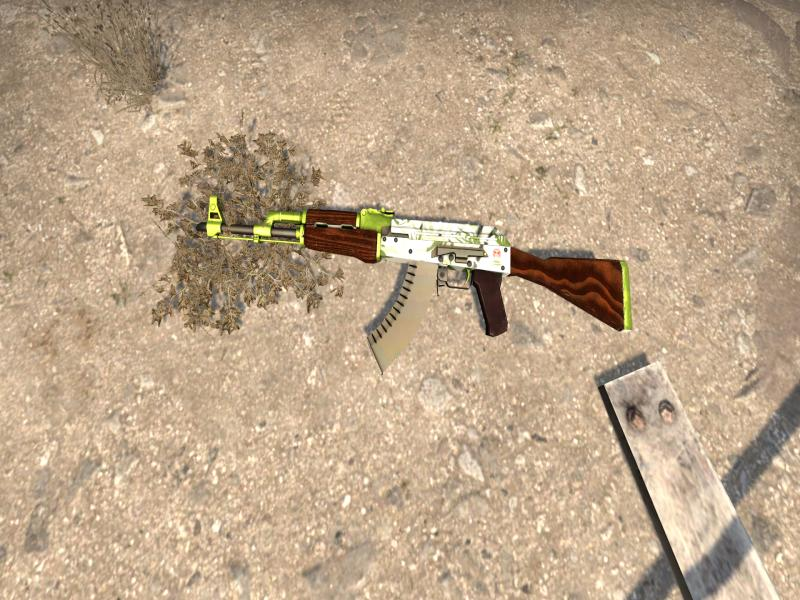AK47: (198, 194, 632, 369)
